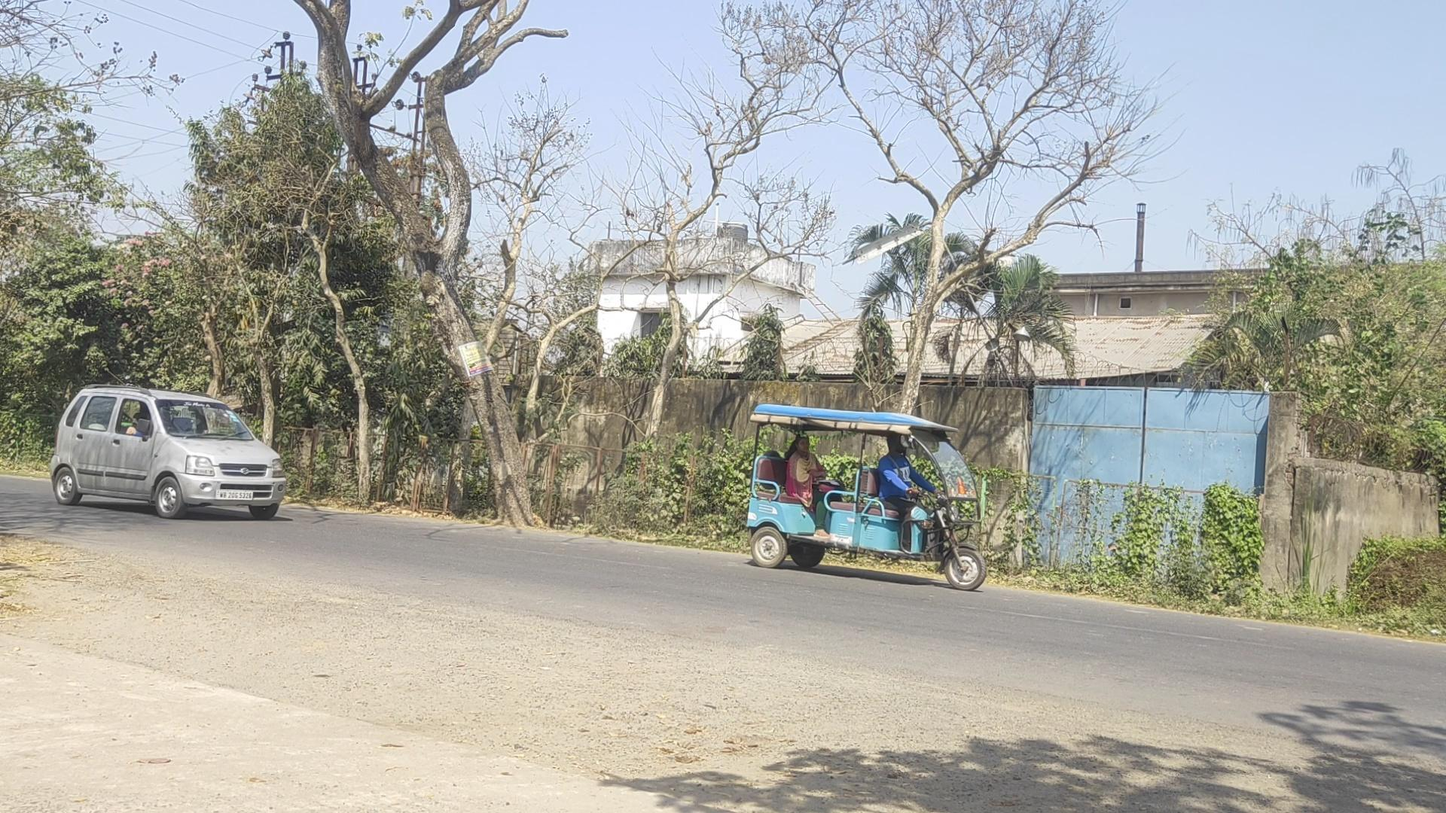Auto: (746, 403, 987, 592)
car: (50, 384, 286, 519)
